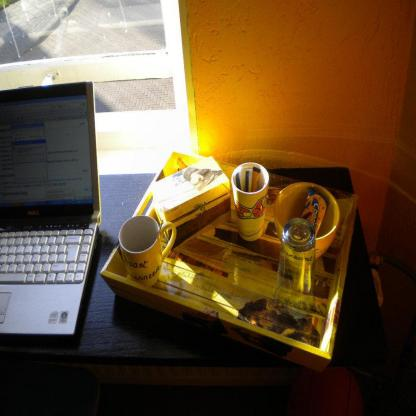board: (0, 81, 101, 336)
